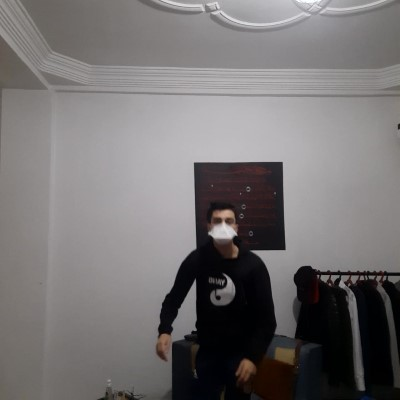FFPMask: (208, 224, 239, 245)
